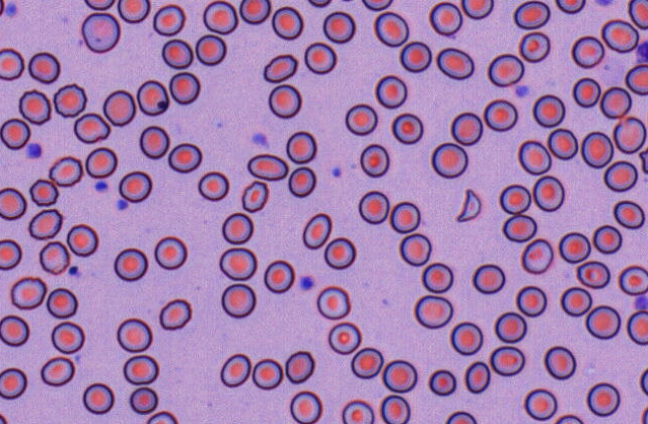PLT: (298, 274, 315, 292), (3, 0, 19, 19), (252, 131, 270, 147), (637, 39, 648, 64), (26, 143, 42, 159), (93, 180, 111, 193), (637, 293, 648, 312), (115, 198, 129, 211), (517, 83, 530, 96), (331, 166, 343, 179)
RBC: (81, 12, 120, 53), (413, 294, 453, 328), (431, 142, 468, 178), (116, 317, 152, 352), (613, 115, 646, 153), (601, 19, 639, 52), (221, 283, 256, 318), (373, 11, 408, 46), (585, 304, 620, 339), (202, 0, 238, 34), (517, 139, 551, 175), (487, 53, 524, 86), (102, 89, 135, 126), (219, 247, 256, 280), (436, 47, 474, 79), (113, 247, 148, 281), (10, 276, 46, 309), (520, 238, 553, 274), (136, 79, 169, 115), (581, 131, 613, 168), (428, 1, 462, 35), (449, 321, 483, 355), (586, 382, 620, 416), (316, 285, 350, 319), (18, 89, 51, 124), (382, 359, 417, 392), (268, 83, 301, 118), (532, 175, 564, 211), (247, 153, 288, 181), (73, 112, 110, 143), (53, 83, 86, 117), (374, 74, 407, 108), (450, 111, 483, 145), (154, 235, 187, 269), (543, 345, 576, 379), (123, 354, 159, 385), (51, 321, 84, 354), (289, 390, 322, 423), (328, 321, 361, 354), (571, 35, 604, 68), (532, 94, 565, 127), (603, 160, 637, 192), (118, 170, 152, 202), (399, 232, 431, 266), (523, 388, 557, 420), (483, 99, 517, 131), (48, 155, 83, 186), (489, 345, 524, 376), (513, 0, 550, 29), (302, 212, 331, 249), (168, 71, 200, 104), (494, 311, 527, 343), (322, 11, 355, 43), (153, 3, 185, 36), (271, 6, 303, 39), (66, 223, 98, 256), (304, 41, 336, 74), (558, 231, 591, 263), (159, 298, 192, 330), (323, 237, 356, 269), (39, 240, 70, 274), (28, 208, 62, 239), (220, 353, 251, 387), (168, 142, 202, 173), (358, 190, 389, 224), (263, 259, 294, 293), (40, 356, 75, 386), (262, 54, 299, 82), (28, 51, 60, 83), (600, 86, 632, 118), (221, 212, 253, 244), (345, 103, 377, 135), (82, 382, 114, 414), (391, 112, 423, 144), (350, 347, 383, 378), (472, 263, 505, 294), (139, 125, 169, 159), (399, 41, 431, 72), (85, 147, 117, 178), (421, 262, 453, 293), (499, 183, 531, 214), (251, 358, 283, 389), (518, 31, 550, 62), (515, 285, 546, 317), (389, 201, 420, 233), (360, 143, 389, 177), (502, 214, 537, 242), (547, 128, 578, 159), (46, 287, 77, 318), (195, 34, 226, 65), (0, 117, 30, 149), (560, 286, 592, 316), (161, 38, 193, 68), (197, 171, 229, 201), (286, 131, 316, 163), (285, 350, 314, 383), (576, 260, 610, 288), (0, 314, 29, 346), (613, 200, 645, 229), (592, 224, 622, 254), (379, 394, 410, 423), (618, 265, 647, 295), (288, 166, 316, 197), (0, 367, 27, 399), (241, 180, 268, 212), (0, 187, 26, 220), (572, 77, 600, 107), (464, 361, 490, 393), (29, 178, 58, 206), (129, 386, 158, 414), (0, 47, 24, 80), (341, 399, 374, 423), (117, 0, 150, 23), (428, 369, 456, 396), (239, 0, 270, 24), (626, 310, 647, 345), (625, 63, 647, 95), (0, 238, 22, 270), (461, 0, 493, 19), (628, 0, 647, 29), (146, 410, 178, 423), (445, 410, 477, 423), (555, 0, 585, 13), (83, 0, 115, 10), (361, 0, 392, 10), (554, 414, 583, 423), (638, 147, 647, 173), (639, 368, 647, 395), (307, 0, 332, 7), (641, 405, 648, 423), (0, 0, 5, 16), (0, 413, 7, 423)
Schistocyte: (458, 187, 479, 223)
